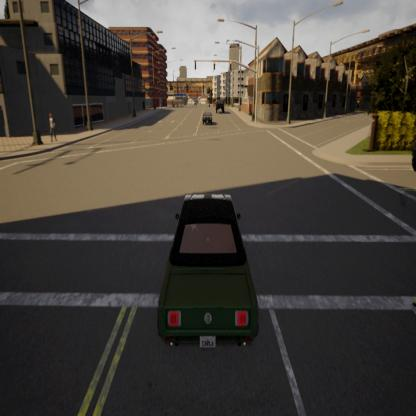Cars: (156, 191, 260, 357), (202, 108, 212, 126), (216, 95, 225, 114)
Pedestrian: (48, 112, 57, 146)
